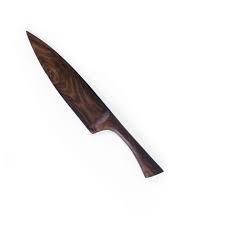Knife: (25, 29, 164, 178)
